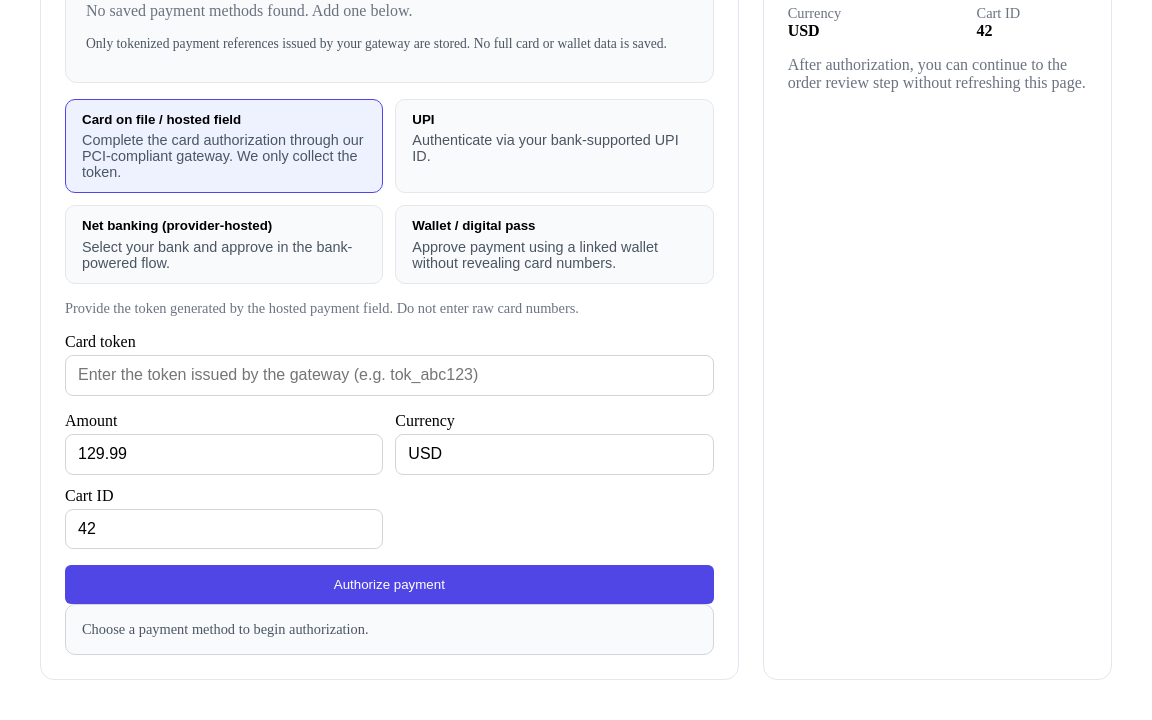
Test case: CheckoutPage payment authorization flow › renders server errors when authorization is declined
The image size is (1152, 720).
(page scrolled)
Type "tok_decline" into the field labelled "Card token" at (389, 375), box [65,355,714,396]
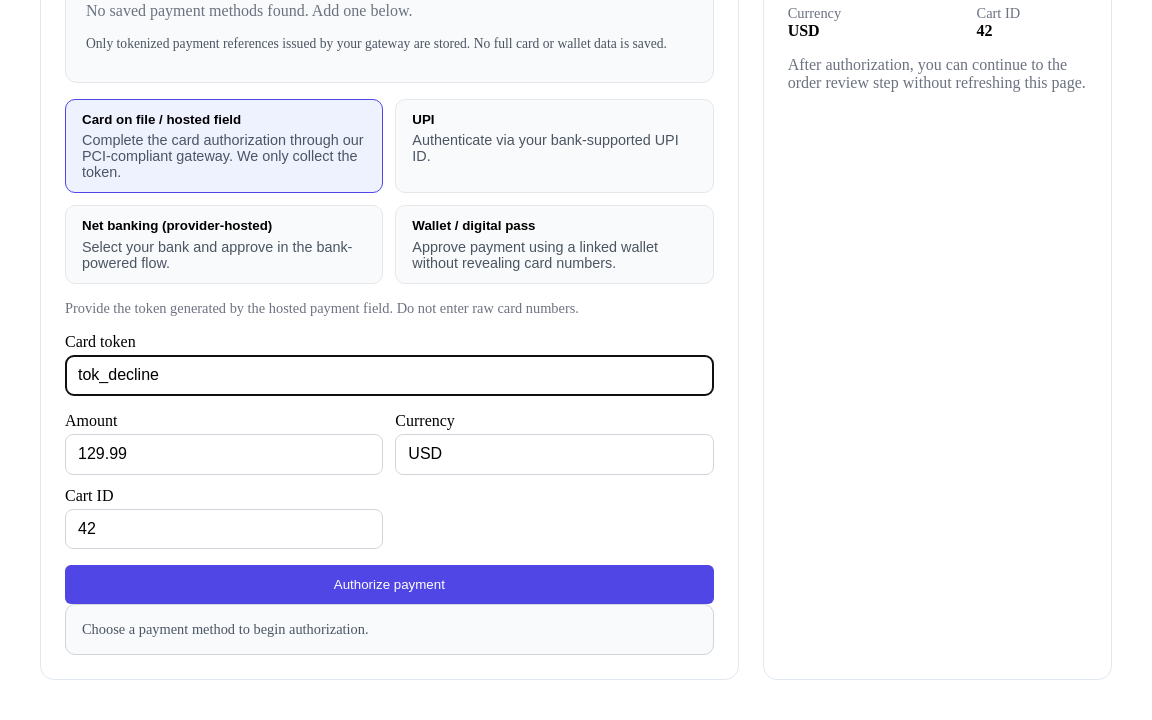
Click the button "Authorize payment" at (389, 585), box [65,565,714,604]
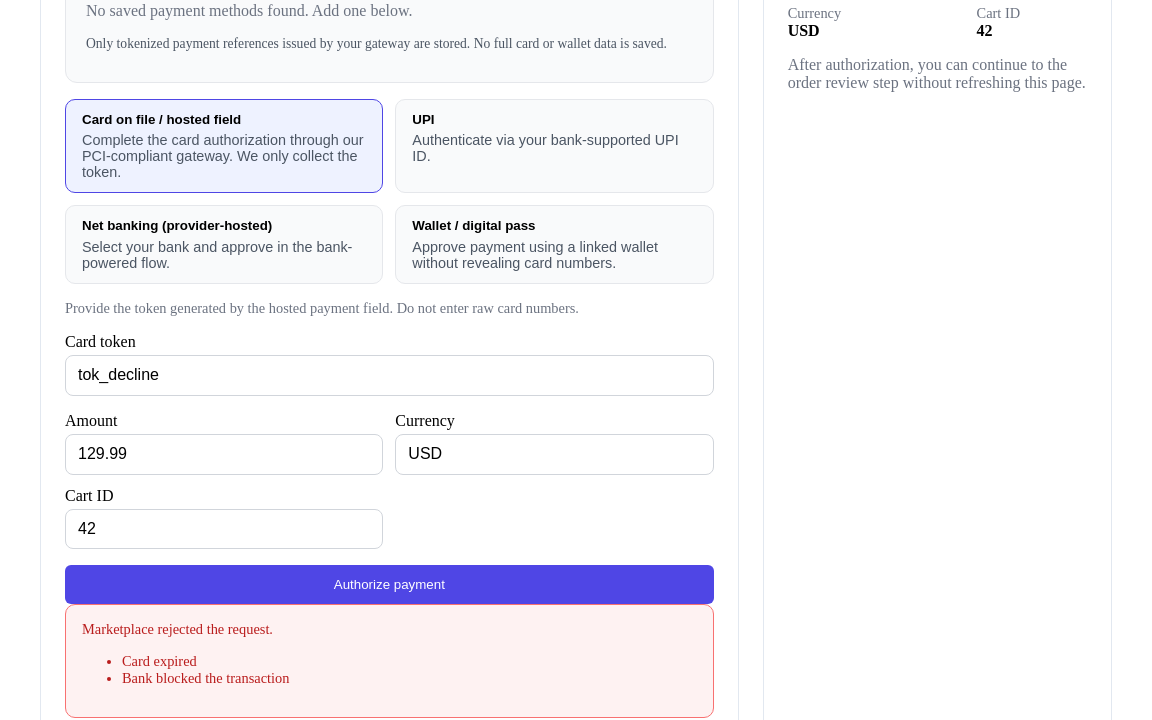
expect the text "Marketplace rejected the request. Card expired Bank blocked the transaction" is shown: met, box [65,604,714,718]
expect the list item "Card expired" is shown: met, box [122,653,197,669]
expect the list item "Bank blocked the transaction" is shown: met, box [122,670,290,686]
